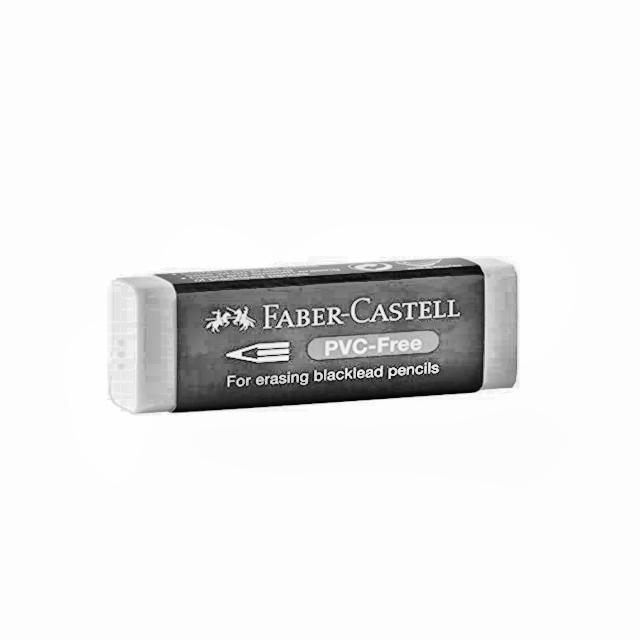eraser: (103, 251, 530, 422)
